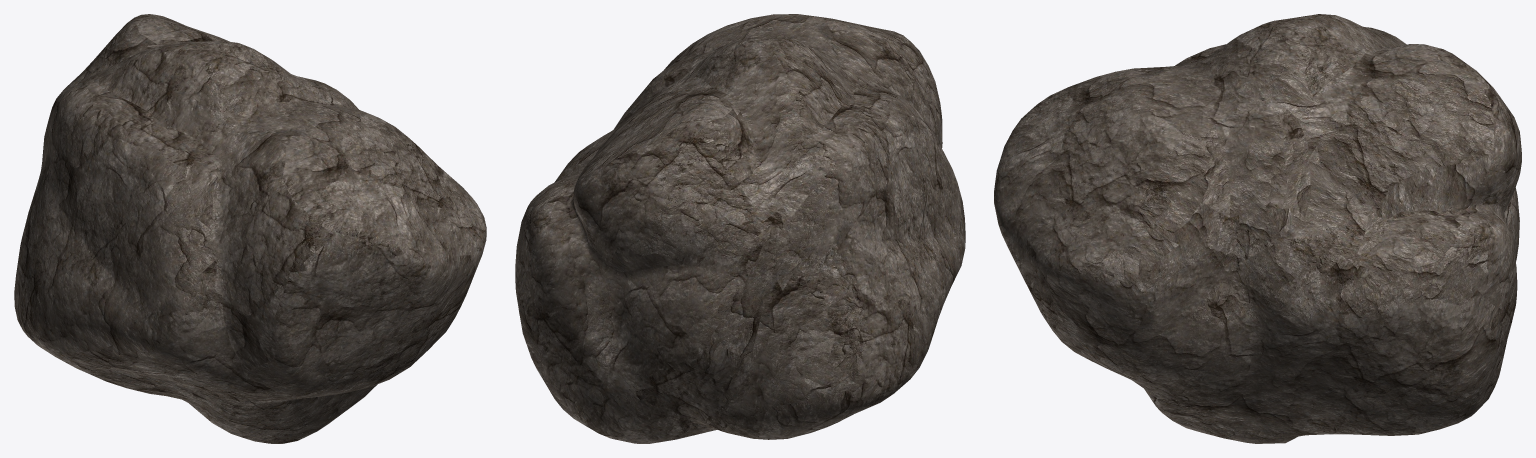
File: rock4.glb
The picture shows the model from 3 angles, left to right: view 1: azimuth 30°, elevation 25°; view 2: azimuth 150°, elevation 25°; view 3: azimuth 270°, elevation 25°; orthographic projection. The views are drawn at different scales.
Parts seen in each view (by area): view 1: rock4.004; view 2: rock4.004; view 3: rock4.004.
Boxes of the visible parts, x1,y1,x2,y2 form: rock4.004: [14, 14, 486, 443]; rock4.004: [515, 14, 965, 443]; rock4.004: [994, 14, 1521, 443].
Bounding box in the file's own units: 12.16 × 12.53 × 15.21.
1 material, 1 textured.
